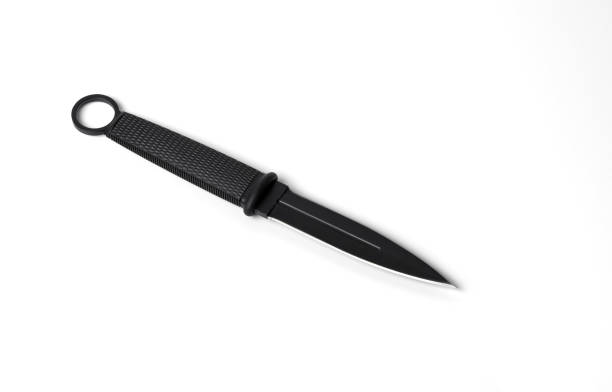knife: (67, 90, 463, 294)
